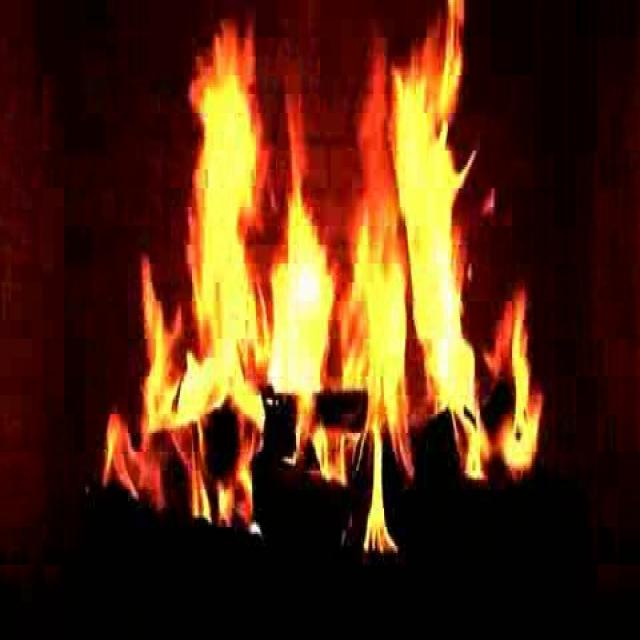fire: (161, 34, 533, 552)
